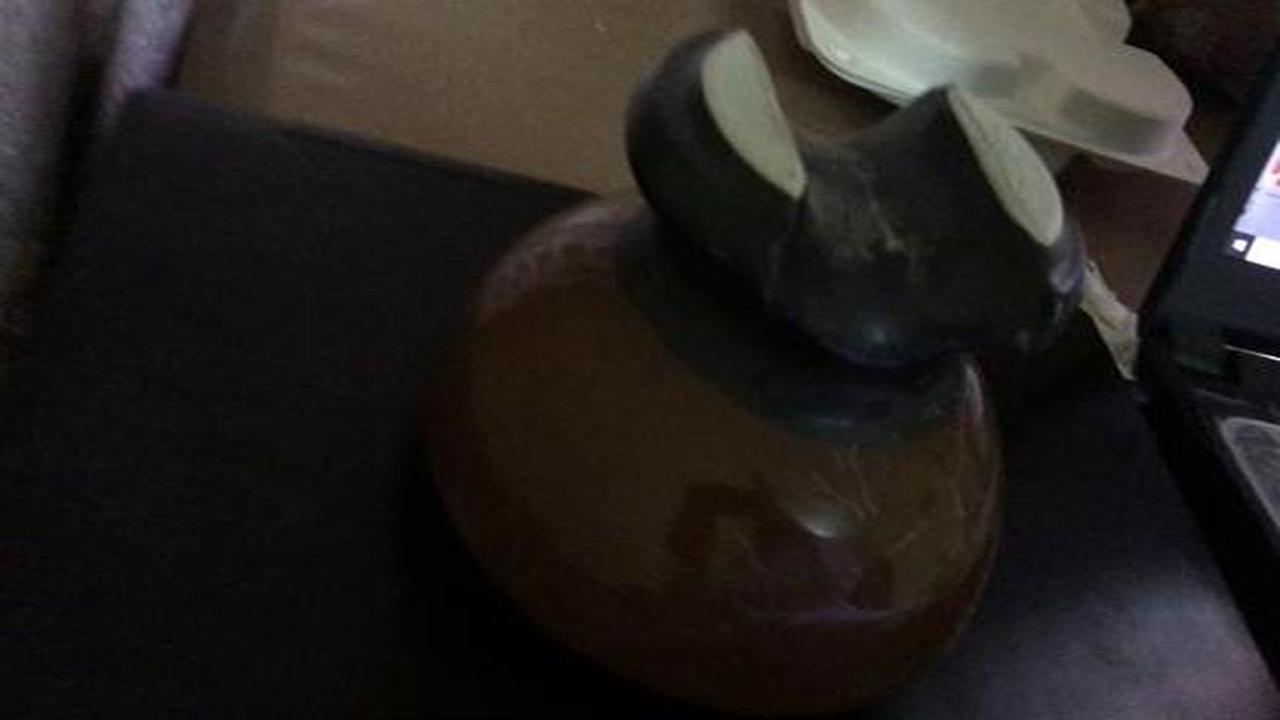insulator_pin: (401, 13, 1096, 707)
